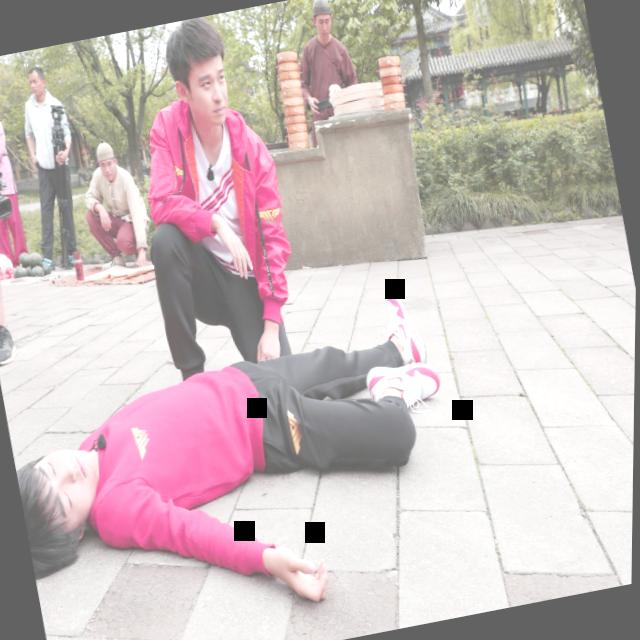Fall-Detected: (8, 279, 480, 640)
